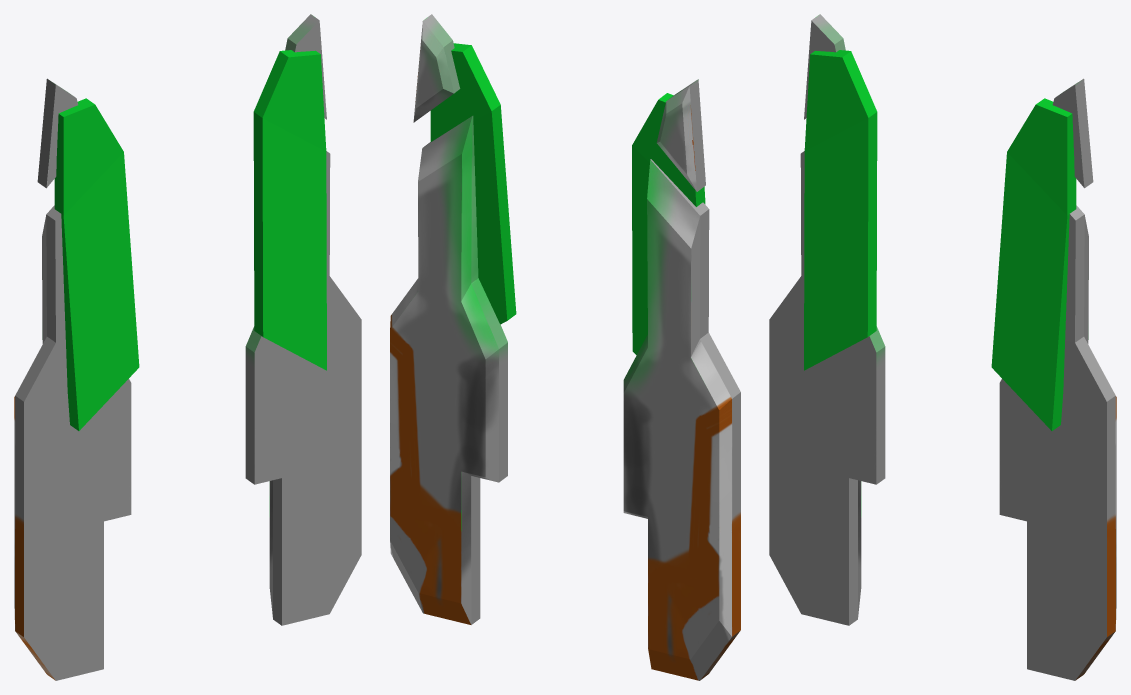
File: Muzzle.fbx
The picture shows the model from 3 angles, left to right: view 1: azimuth 30°, elevation 25°; view 2: azimuth 150°, elevation 25°; view 3: azimuth 330°, elevation 25°; orthographic projection.
Parts seen in each view (by area): view 1: Plane.001; view 2: Plane.001; view 3: Plane.001.
Boxes of the visible parts, x1,y1,x2,y2 form: Plane.001: [14, 14, 361, 680]; Plane.001: [390, 14, 740, 680]; Plane.001: [769, 14, 1116, 680].
Size of the model in its own units: 34.8 by 58.26 by 5.17.
